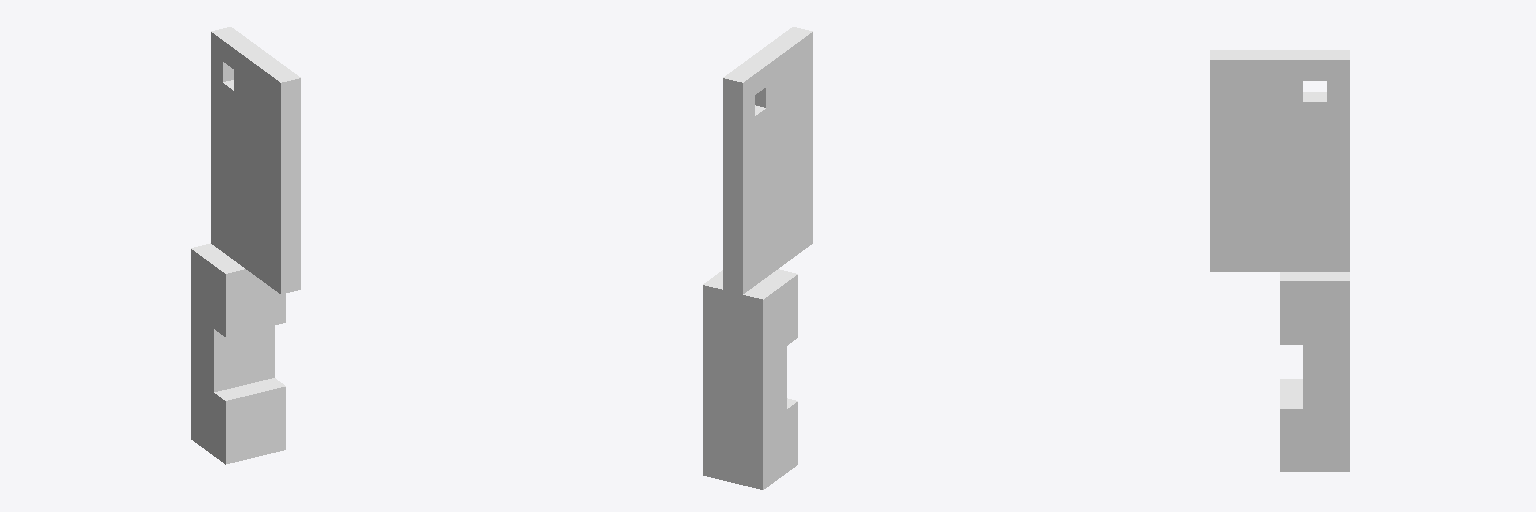
The model's file is Project1day-5.obj.
The picture shows the model from 3 angles: view 1: azimuth 30°, elevation 25°; view 2: azimuth 150°, elevation 25°; view 3: azimuth 270°, elevation 25°; orthographic projection.
Parts seen in each view (by area): view 1: object 1; view 2: object 1; view 3: object 1.
Part boxes in pixels (x1,y1,x2,y2): object 1: (191,27,300,464); object 1: (703,27,812,489); object 1: (1210,50,1349,471).
Bounding box in the file's own units: 0.3 × 1.9 × 0.6.